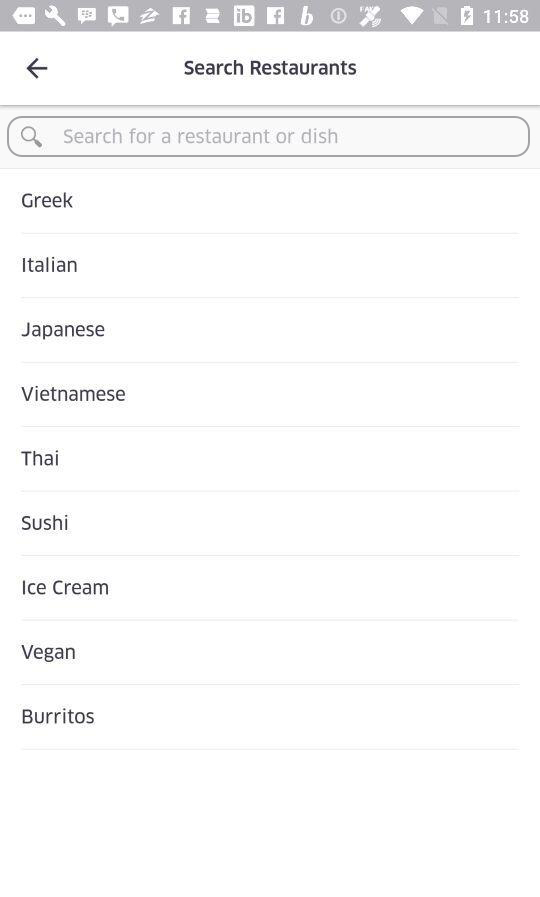EditText: (8, 116, 531, 158)
Icon: (21, 126, 43, 150), (27, 58, 49, 81)
Text: (64, 128, 338, 145), (184, 60, 357, 77), (22, 386, 127, 403), (22, 322, 106, 341), (23, 580, 110, 596), (23, 707, 96, 725), (21, 644, 77, 663), (22, 192, 76, 209), (23, 257, 78, 273), (22, 515, 69, 531), (21, 449, 60, 467)
Toolbar: (1, 33, 540, 105)
UpperTaskBar: (1, 1, 540, 33)
